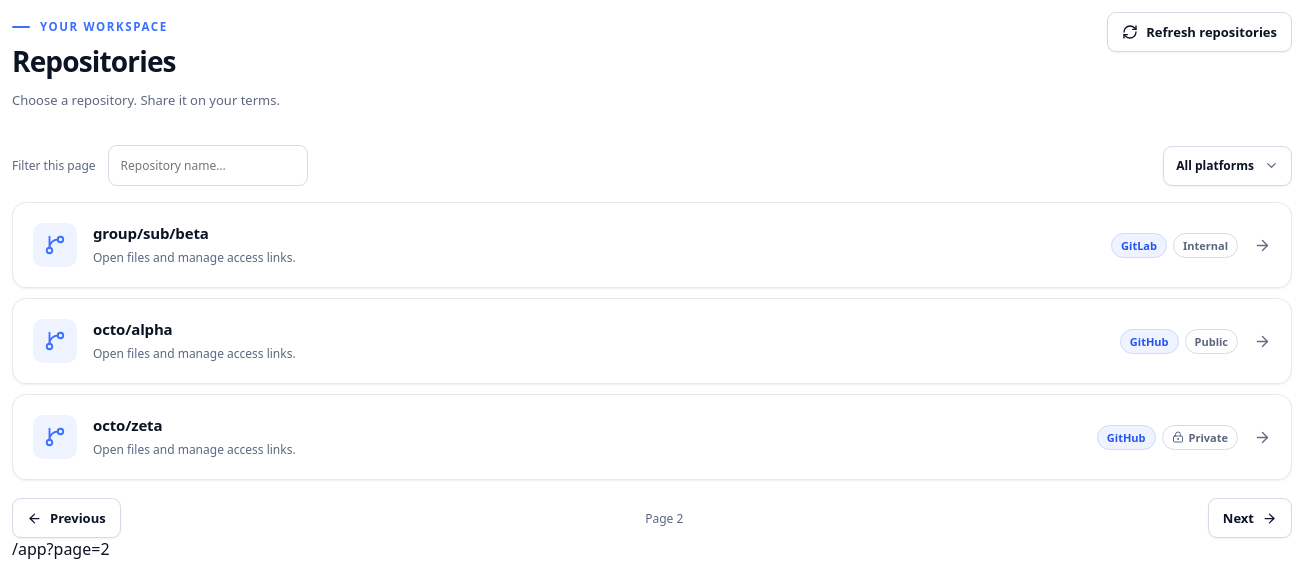
Test: keeps the catalogue page in the address
The width and height of the screenshot is (1304, 577).
Expected: the text "Page 2" is shown, x1=645 y1=510 x2=683 y2=527
Step 1. Click the button "Previous" → (66, 518), box x1=12 y1=498 x2=121 y2=538
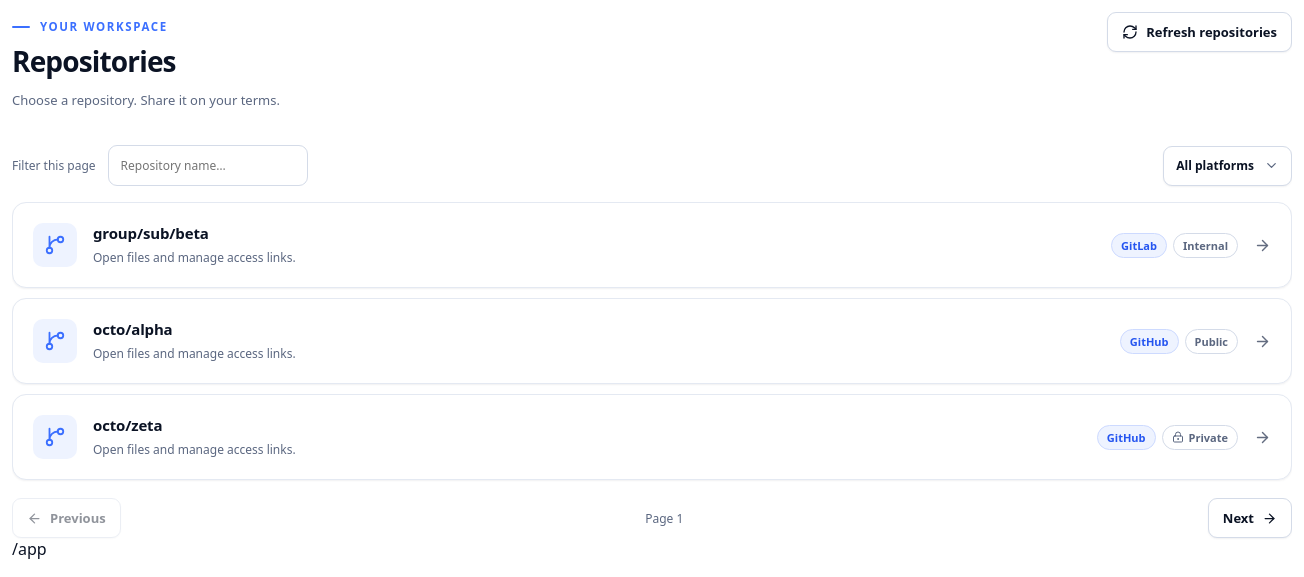
Expected: the text named "Location" reads "/app", x1=12 y1=538 x2=47 y2=560
Expected: the text "Page 1" is shown, x1=645 y1=510 x2=683 y2=527
Step 2. Click the button "Next" → (1250, 518), box x1=1208 y1=498 x2=1292 y2=538
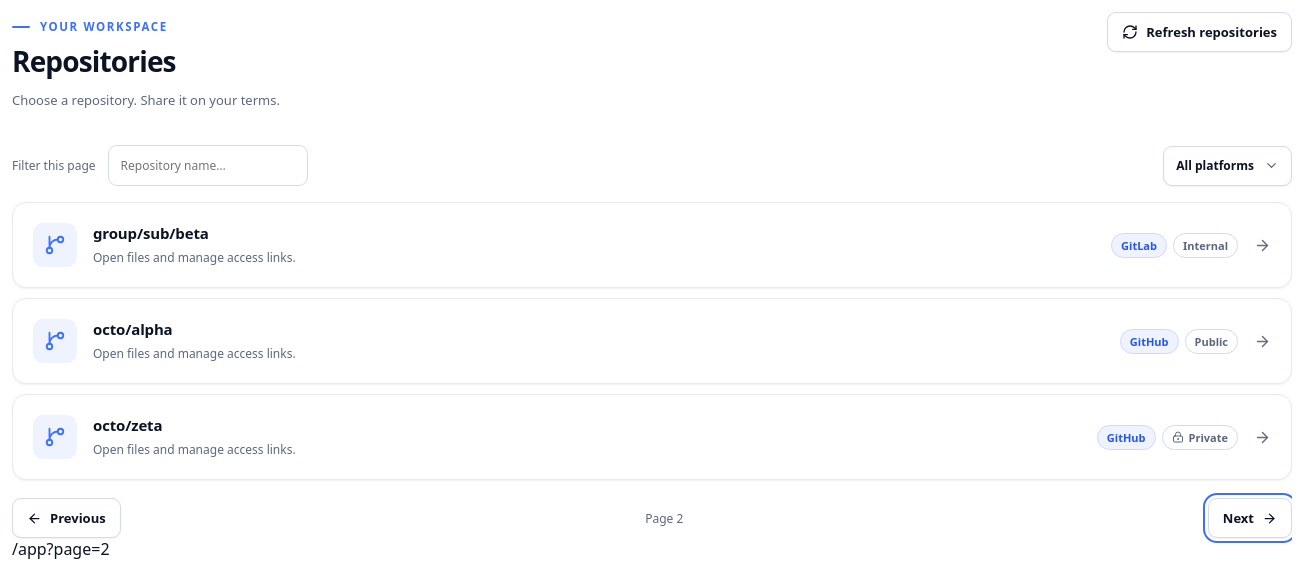
Expected: the text named "Location" reads "/app?page=2", x1=12 y1=538 x2=110 y2=560
